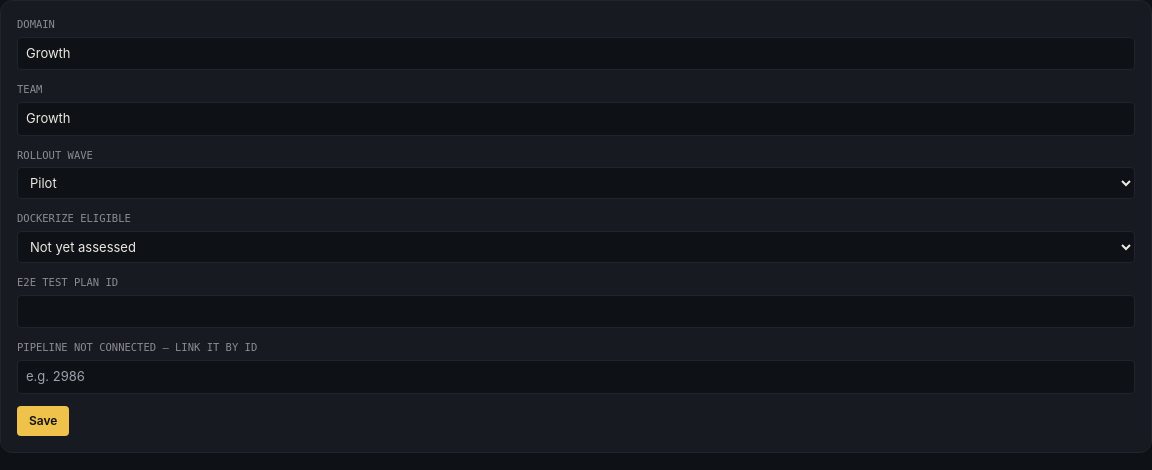
RepoFieldsForm › shows an inline error and preserves the edit if the save fails
Replace the text in the field labelled "Domain" with "Checkout" at coordinates (576, 54), box x1=17 y1=37 x2=1135 y2=70
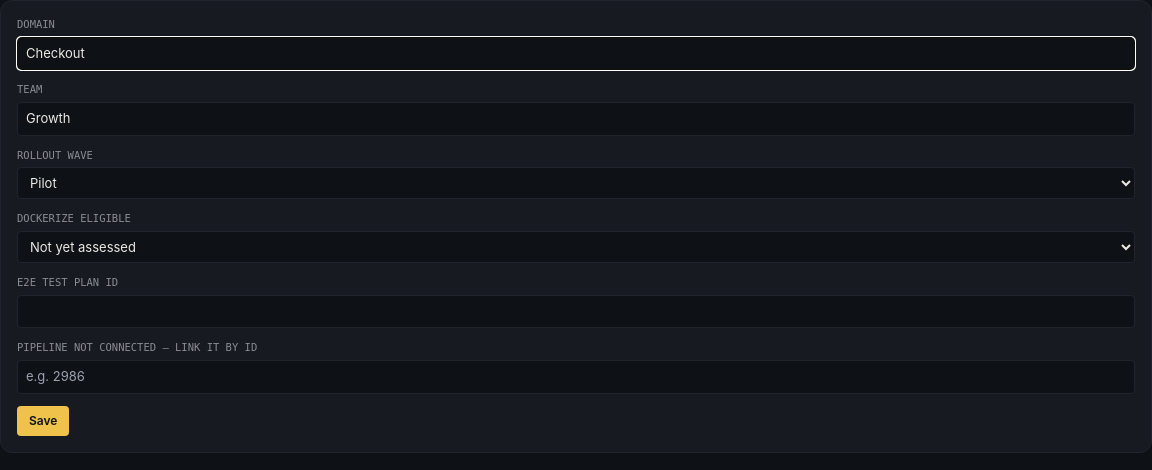
Click the button "Save".
click(43, 420)  # box x1=17 y1=406 x2=69 y2=436
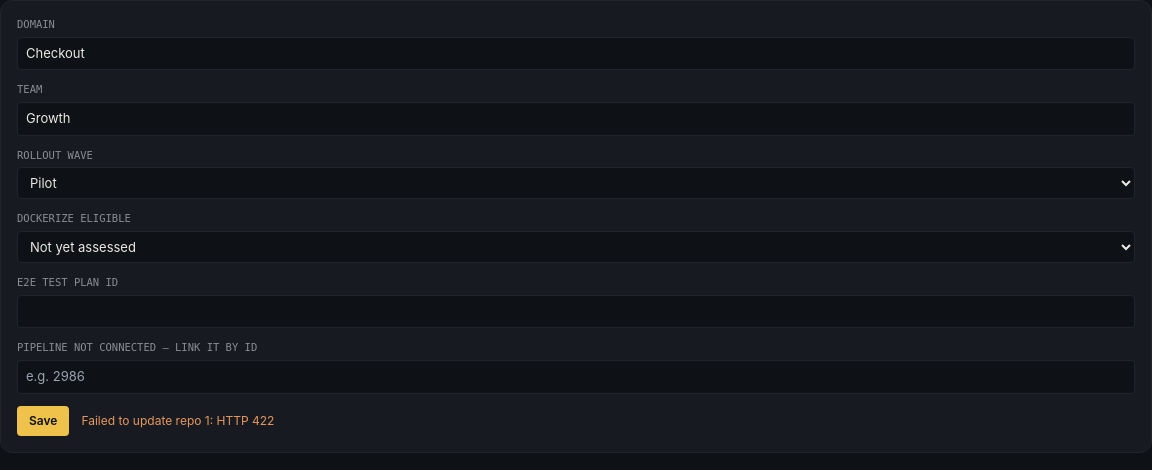
Expected: the text "Failed to update repo 1: HTTP 422" is shown, x1=81 y1=412 x2=274 y2=430
